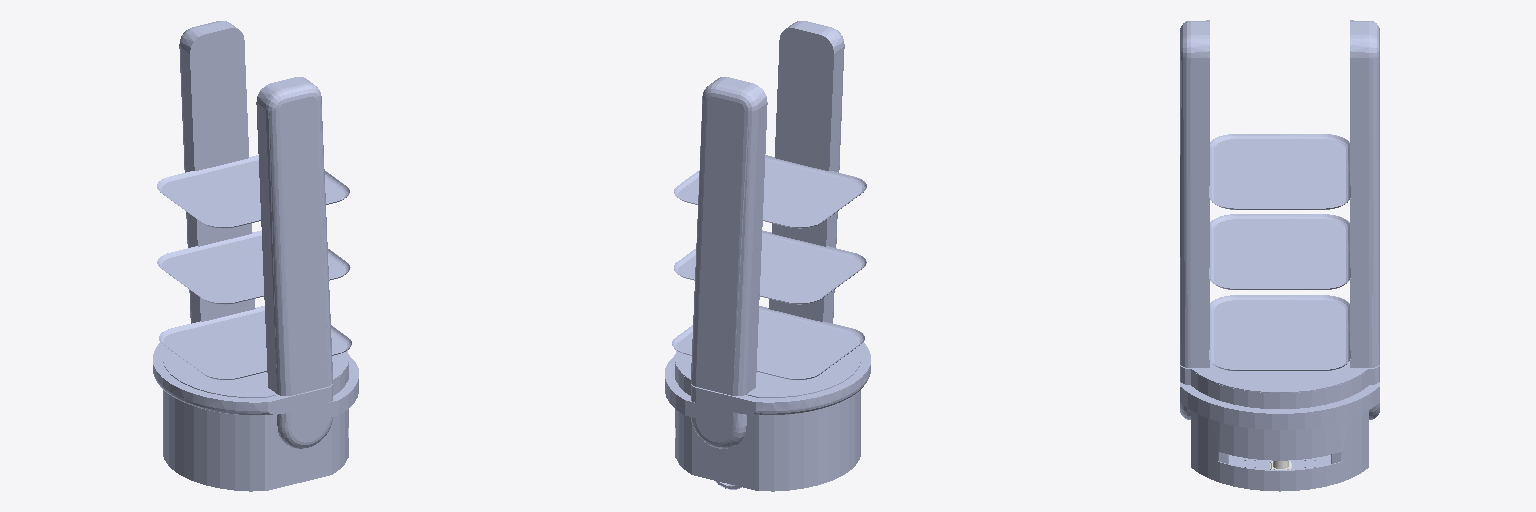
The robot description file, URDF, robot "service_robot":
<?xml version="1.0" encoding="utf-8"?>
<!-- This URDF was automatically created by SolidWorks to URDF Exporter! Originally created by [author] ([email redacted]) 
     Commit Version: 1.6.0-4-g7f85cfe  Build Version: 1.6.7995.38578
     For more information, please see http://wiki.ros.org/sw_urdf_exporter -->
<robot
  name="service_robot">
  <link
    name="base_link">
    <inertial>
      <origin
        xyz="-0.0031459 0.0033139 0.64916"
        rpy="0 0 0" />
      <mass
        value="42.124" />
      <inertia
        ixx="4.8432"
        ixy="-1.579E-05"
        ixz="0.11714"
        iyy="3.0932"
        iyz="9.31E-07"
        izz="2.5052" />
    </inertial>
    <visual>
      <origin
        xyz="0 0 0"
        rpy="0 0 0" />
      <geometry>
        <mesh
          filename="package://service_robot/meshes/base_link.STL" />
      </geometry>
      <material
        name="">
        <color
          rgba="0.79216 0.81961 0.93333 1" />
      </material>
    </visual>
    <collision>
      <origin
        xyz="0 0 0"
        rpy="0 0 0" />
      <geometry>
        <mesh
          filename="package://service_robot/meshes/base_link.STL" />
      </geometry>
    </collision>
  </link>
  <link
    name="right_wheel_link">
    <inertial>
      <origin
        xyz="-8.5696E-06 -0.014377 -4.2287E-06"
        rpy="0 0 0" />
      <mass
        value="0.23049" />
      <inertia
        ixx="0.00040755"
        ixy="-2.6813E-08"
        ixz="7.4014E-09"
        iyy="0.00077146"
        iyz="-1.2711E-08"
        izz="0.00040754" />
    </inertial>
    <visual>
      <origin
        xyz="0 0 0"
        rpy="0 0 0" />
      <geometry>
        <mesh
          filename="package://service_robot/meshes/right_wheel_link.STL" />
      </geometry>
      <material
        name="">
        <color
          rgba="0.79216 0.81961 0.93333 1" />
      </material>
    </visual>
    <collision>
      <origin
        xyz="0 0 0"
        rpy="0 0 0" />
      <geometry>
        <mesh
          filename="package://service_robot/meshes/right_wheel_link.STL" />
      </geometry>
    </collision>
  </link>
  <joint
    name="right_wheel_joint"
    type="continuous">
    <origin
      xyz="0.00087678 -0.19668 0.071853"
      rpy="0 0 0" />
    <parent
      link="base_link" />
    <child
      link="right_wheel_link" />
    <axis
      xyz="0 -1 0" />
    <limit
      lower="0"
      upper="6.28"
      effort="30"
      velocity="100" />
    <dynamics
      damping="0.5"
      friction="0.1" />
  </joint>
  <link
    name="left_wheel_link">
    <inertial>
      <origin
        xyz="-8.8335E-06 -0.014377 3.6453E-06"
        rpy="0 0 0" />
      <mass
        value="0.23049" />
      <inertia
        ixx="0.00040755"
        ixy="-2.6969E-08"
        ixz="-5.6048E-09"
        iyy="0.00077146"
        iyz="1.2147E-08"
        izz="0.00040753" />
    </inertial>
    <visual>
      <origin
        xyz="0 0 0"
        rpy="0 0 0" />
      <geometry>
        <mesh
          filename="package://service_robot/meshes/left_wheel_link.STL" />
      </geometry>
      <material
        name="">
        <color
          rgba="0.79216 0.81961 0.93333 1" />
      </material>
    </visual>
    <collision>
      <origin
        xyz="0 0 0"
        rpy="0 0 0" />
      <geometry>
        <mesh
          filename="package://service_robot/meshes/left_wheel_link.STL" />
      </geometry>
    </collision>
  </link>
  <joint
    name="left_wheel_joint"
    type="continuous">
    <origin
      xyz="0.00087678 0.24032 0.071853"
      rpy="0 0 0" />
    <parent
      link="base_link" />
    <child
      link="left_wheel_link" />
    <axis
      xyz="0 1 0" />
    <limit
      lower="0"
      upper="6.28"
      effort="30"
      velocity="100" />
    <dynamics
      damping="0.5"
      friction="0.1" />
  </joint>
  <link
    name="lidar">
    <inertial>
      <origin
        xyz="-0.0228773601981522 2.80630767646173E-05 -0.014854319130004"
        rpy="0 0 0" />
      <mass
        value="0.221560580762791" />
      <inertia
        ixx="0.000164350974205098"
        ixy="-7.73309314852227E-10"
        ixz="4.19289477048433E-06"
        iyy="0.000162484506964497"
        iyz="6.02884100551171E-08"
        izz="0.000107097774798223" />
    </inertial>
    <visual>
      <origin
        xyz="0 0 0"
        rpy="0 0 0" />
      <geometry>
        <mesh
          filename="package://service_robot/meshes/lidar.STL" />
      </geometry>
      <material
        name="">
        <color
          rgba="0.949019607843137 0.949019607843137 0.949019607843137 1" />
      </material>
    </visual>
    <collision>
      <origin
        xyz="0 0 0"
        rpy="0 0 0" />
      <geometry>
        <mesh
          filename="package://service_robot/meshes/lidar.STL" />
      </geometry>
    </collision>
  </link>
  <joint
    name="lidar_joint"
    type="fixed">
    <origin
      xyz="0.26101 0.0028461 0.08675"
      rpy="0 0 0" />
    <parent
      link="base_link" />
    <child
      link="lidar" />
    <axis
      xyz="0 0 0" />
  </joint>
</robot>

--- Facts derived from the render (not from the file) ---
The picture shows the robot from 3 angles, left to right: view 1: azimuth 30°, elevation 25°; view 2: azimuth 150°, elevation 25°; view 3: azimuth 270°, elevation 25°; orthographic projection.
Model service_robot with 4 links and 3 joints (2 continuous, 1 fixed), rooted at base_link, posed all joints at 0.
Links seen in each view (by area): view 1: base_link; view 2: base_link; view 3: base_link.
Boxes of the visible links, x1,y1,x2,y2 form: base_link: [153, 21, 358, 491]; base_link: [665, 21, 870, 491]; base_link: [1180, 20, 1379, 491].
Size in the robot's own frame: 0.6146 by 0.566 by 1.33 metres.
Meshes: 4 distinct files referenced, 4 mesh visuals loaded (4 binary STL).